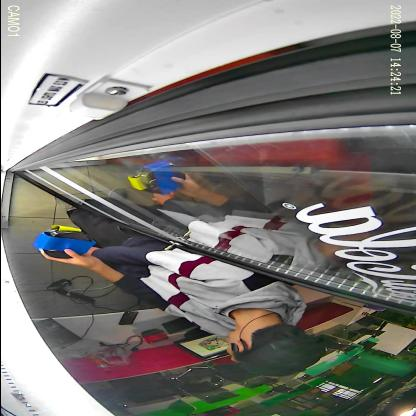blue: (32, 230, 96, 258)
yellow: (41, 224, 83, 232)
